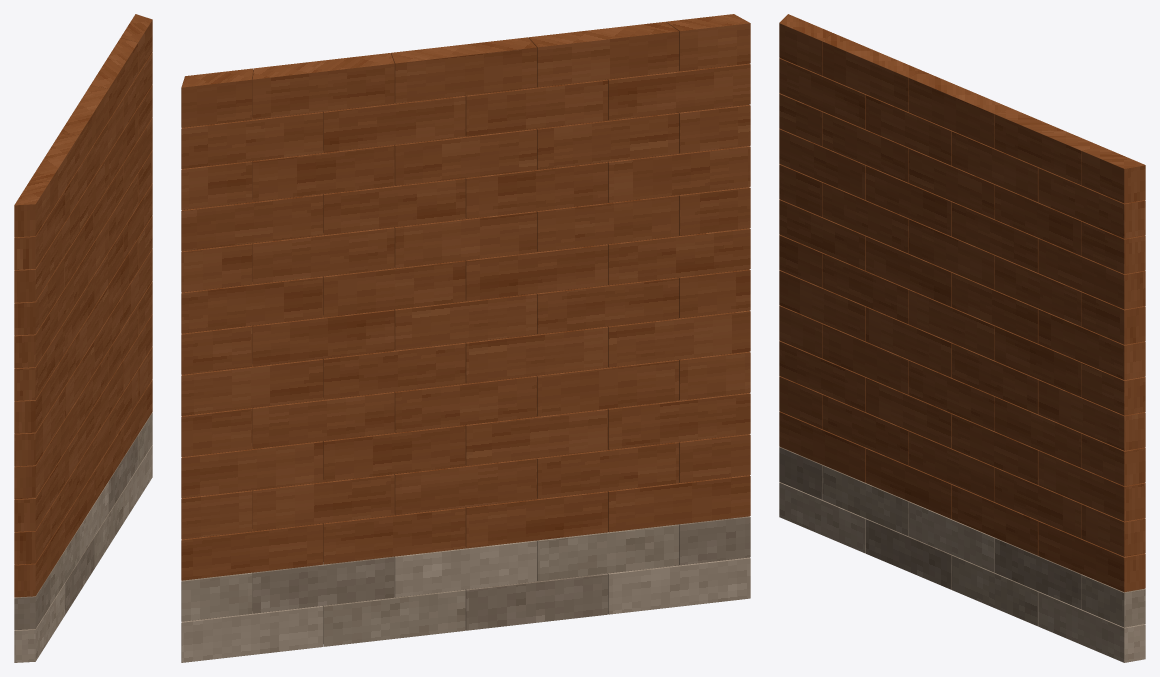
File: Courses-5.glb
3 renders of one model, left to right at view 1: azimuth 30°, elevation 25°; view 2: azimuth 150°, elevation 25°; view 3: azimuth 270°, elevation 25°, orthographic. The views are drawn at different scales.
Parts seen in each view (by area): view 1: Courses-5; view 2: Courses-5; view 3: Courses-5.
Part boxes in pixels (x1,y1,x2,y2): Courses-5: (14,14,152,662); Courses-5: (181,14,750,662); Courses-5: (779,14,1145,662).
Bounding box in the file's own units: 2.38 × 3.55 × 2.38.
Materials: 4 (4 with a texture image).
